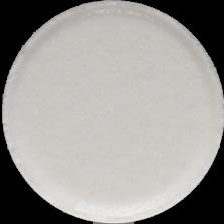48433-314: (0, 0, 224, 224)
